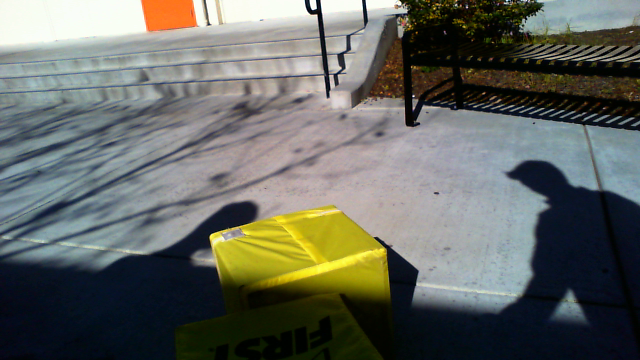cube: (209, 205, 396, 360), (173, 292, 385, 360)
